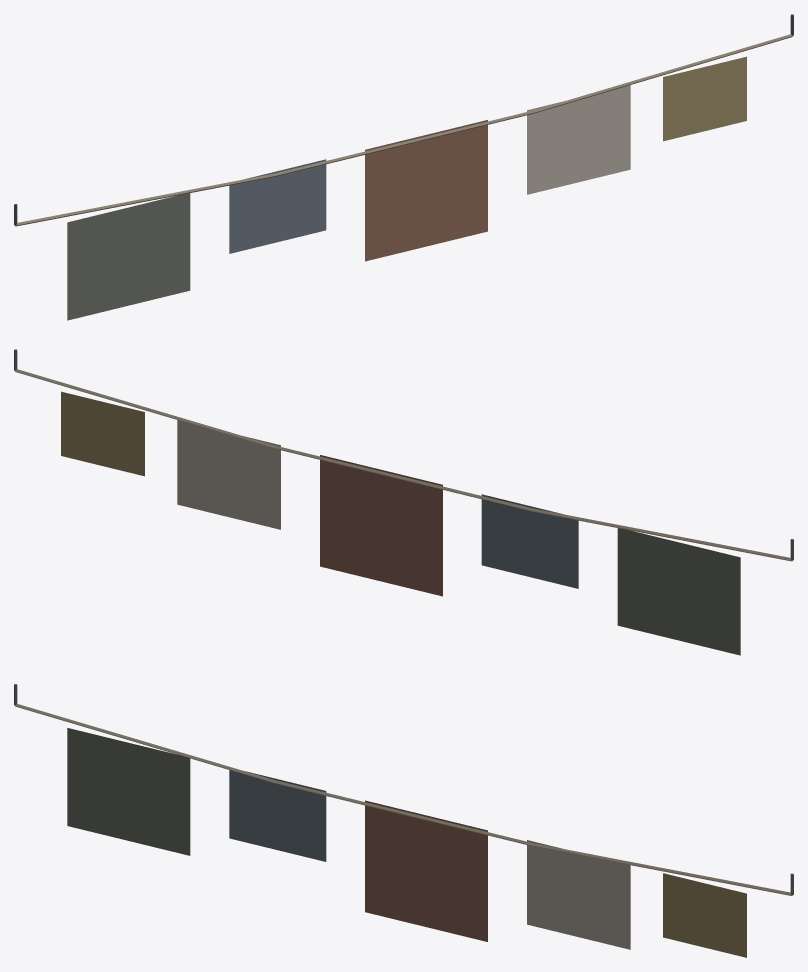
File: drying_line_c.glb
3 renders of one model, top to bottom at view 1: azimuth 30°, elevation 25°; view 2: azimuth 150°, elevation 25°; view 3: azimuth 330°, elevation 25°, orthographic.
Parts seen in each view (by area): view 1: drying_line_c; view 2: drying_line_c; view 3: drying_line_c.
Boxes of the visible parts, left/top/right/bottom form: drying_line_c: left=14, top=14, right=793, bottom=320; drying_line_c: left=14, top=349, right=793, bottom=655; drying_line_c: left=14, top=684, right=793, bottom=957.
Bounding box in the file's own units: 2.41 × 0.42 × 0.01.
